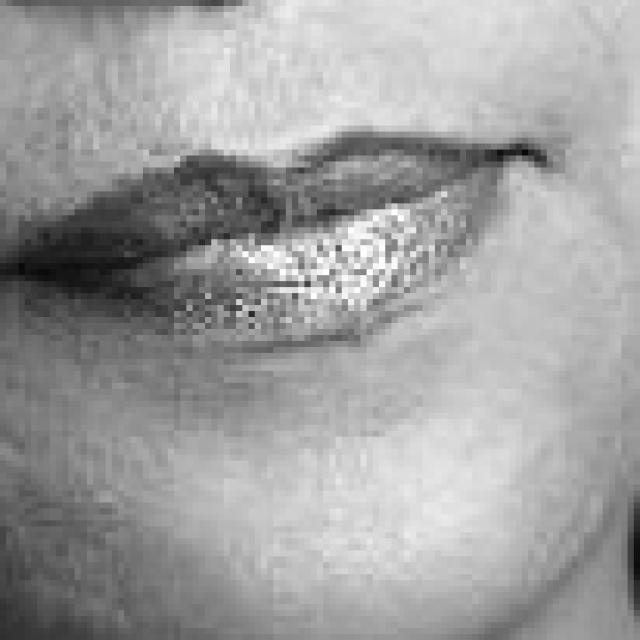closed-mouth: (6, 120, 553, 353)
